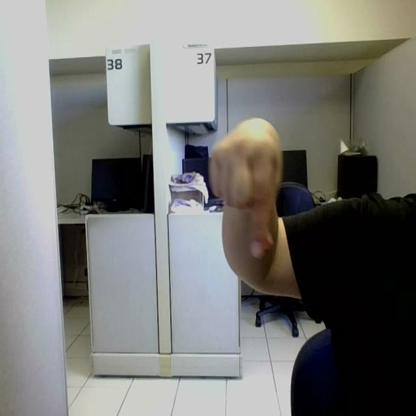Q: (209, 134, 281, 257)
